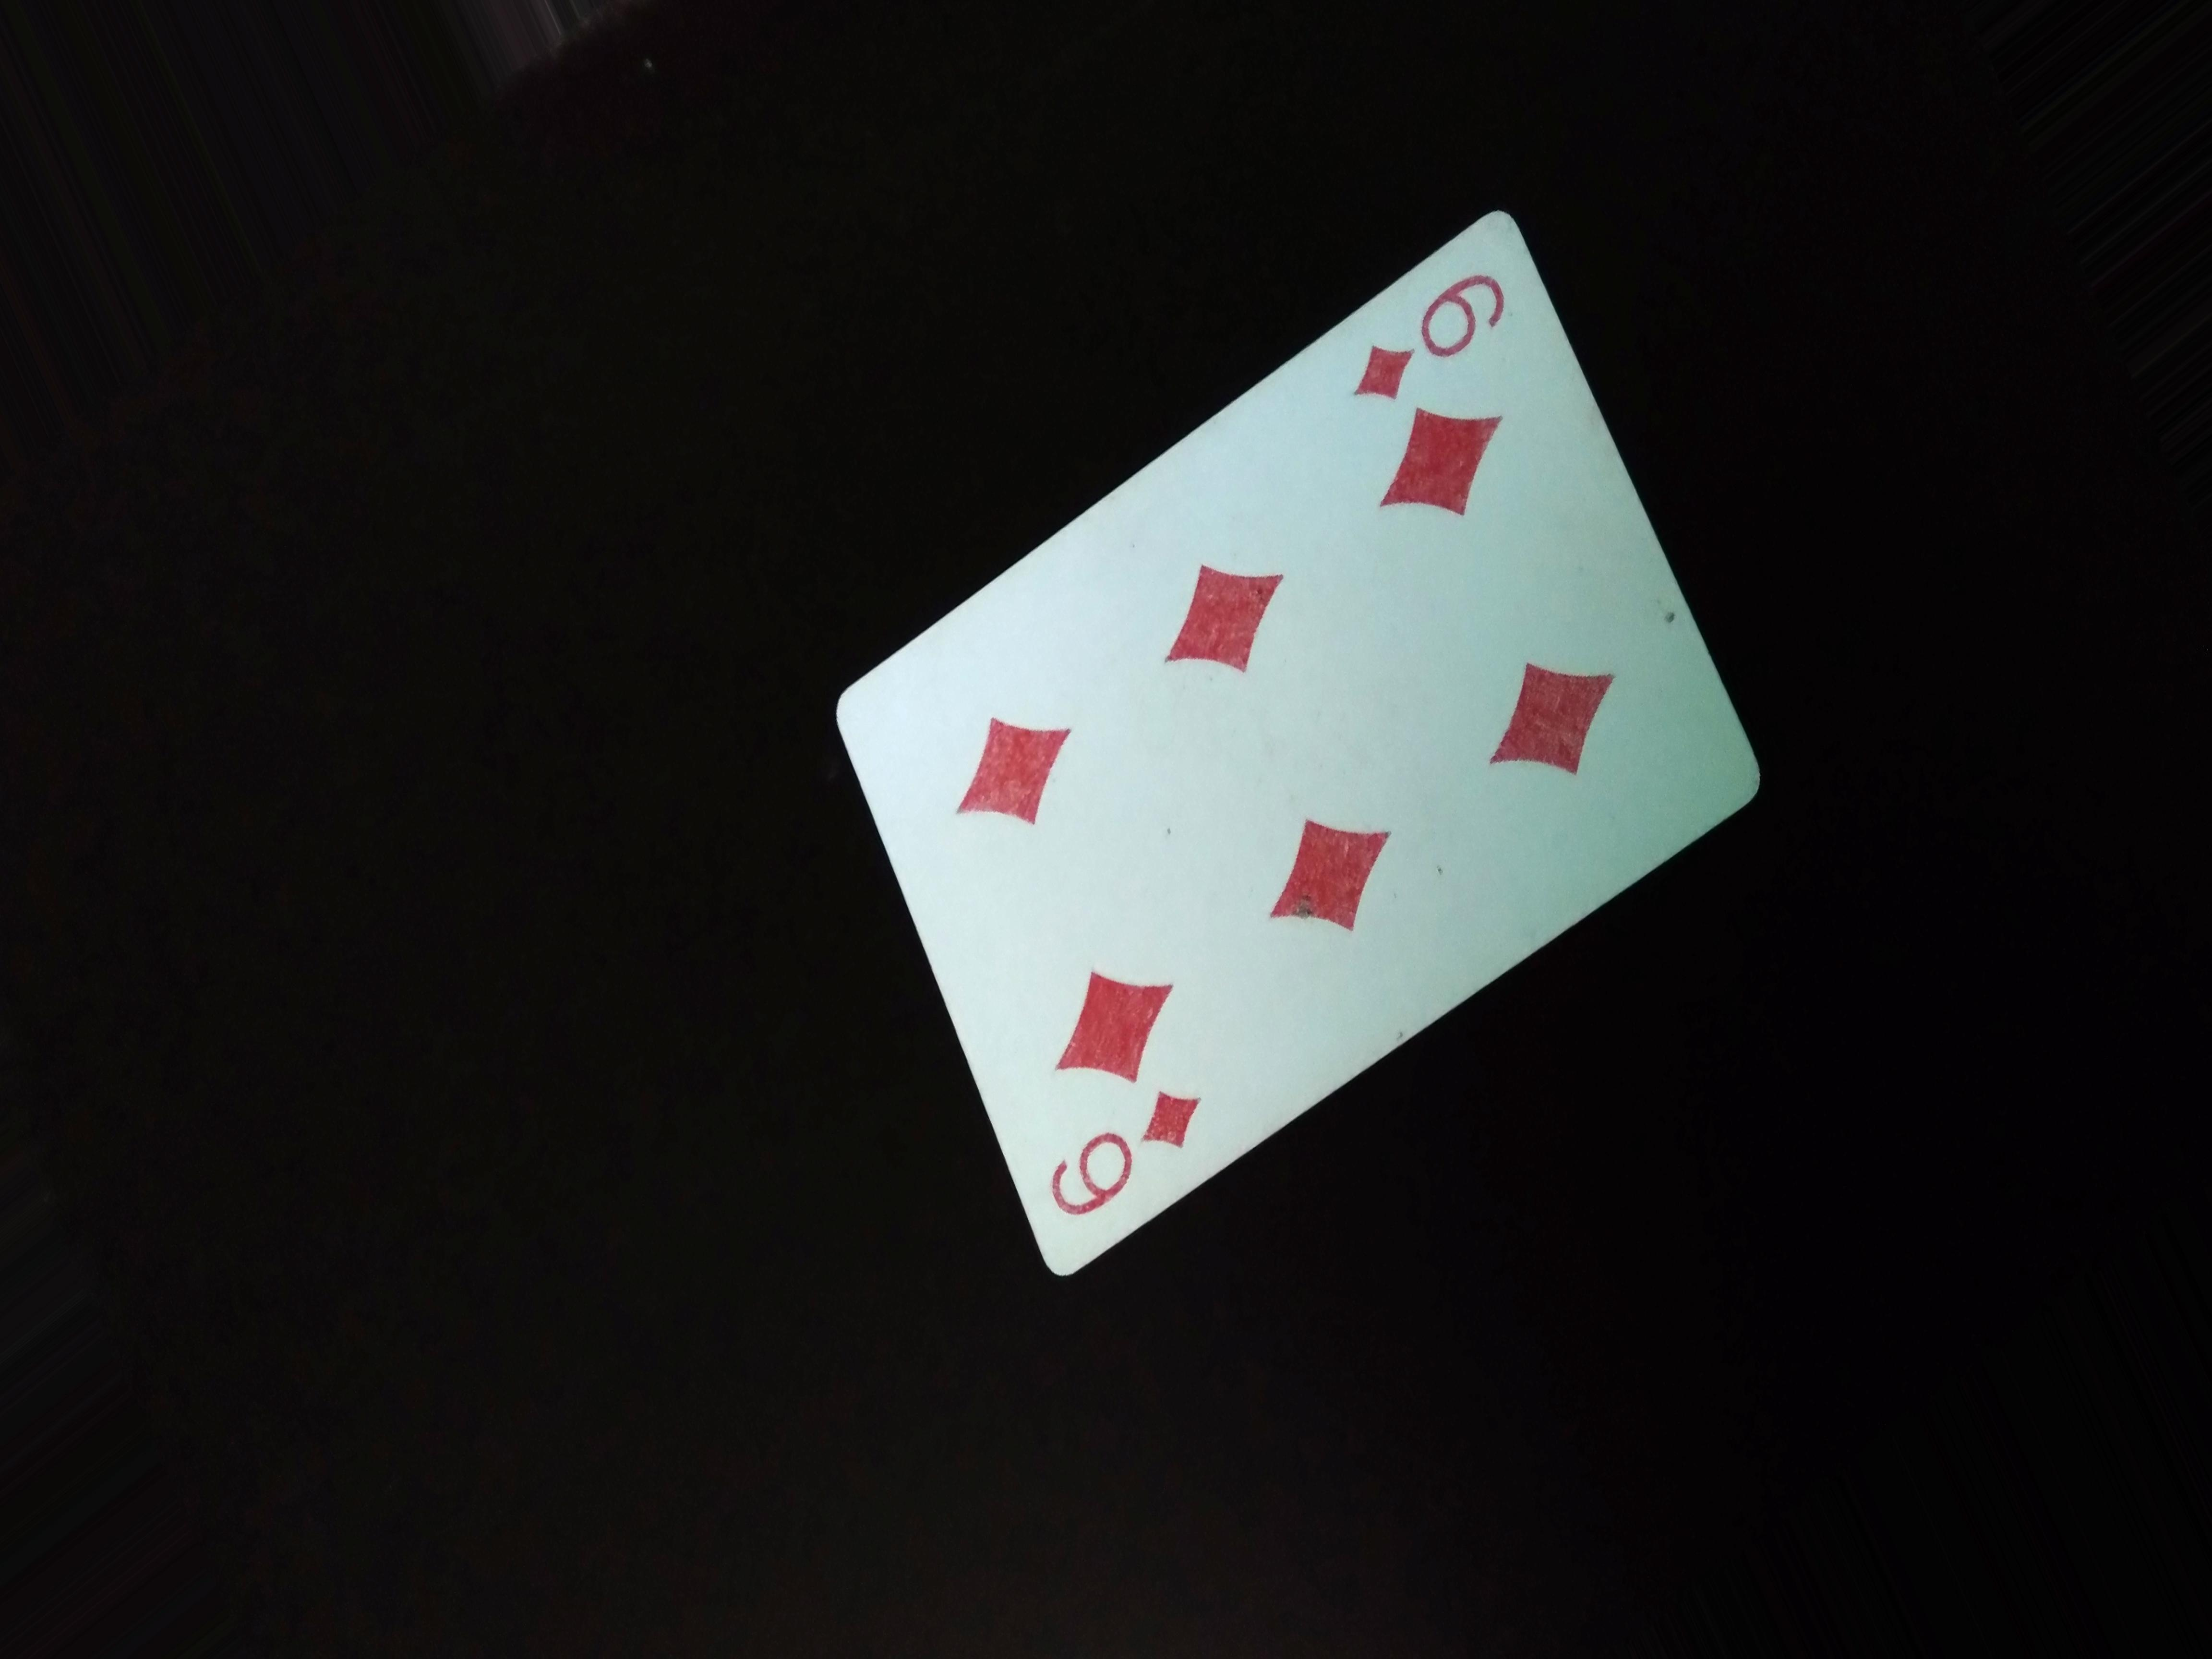6D: (1015, 1089, 1193, 1220)
